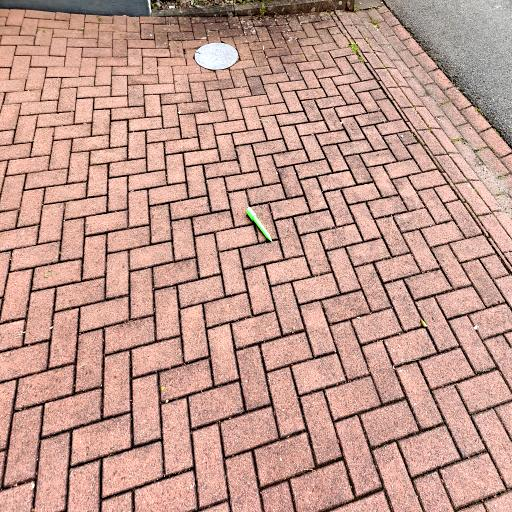Probe-Detection: (246, 207, 272, 242)
